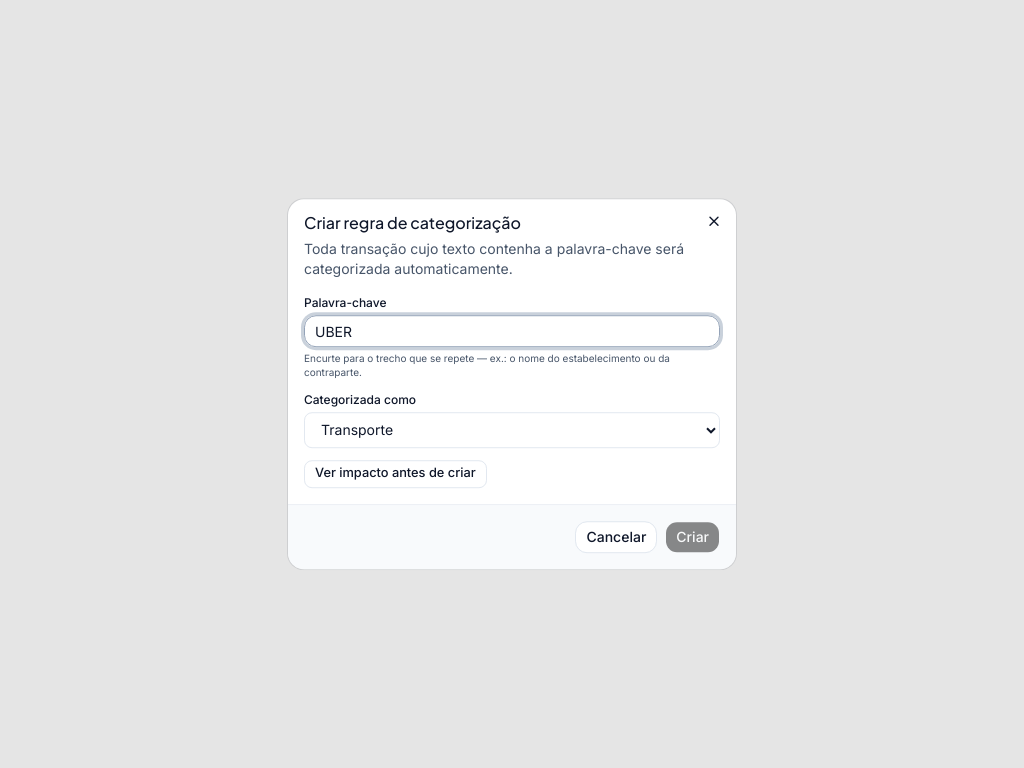
Scenario: CreateRuleDialog · preview + create flow (A12 P4) › mostra checkbox de confirmação quando requires_user_confirmation=true
Step 1. Click the button with test id "rule-preview-button" → (395, 474), box [304, 460, 487, 488]
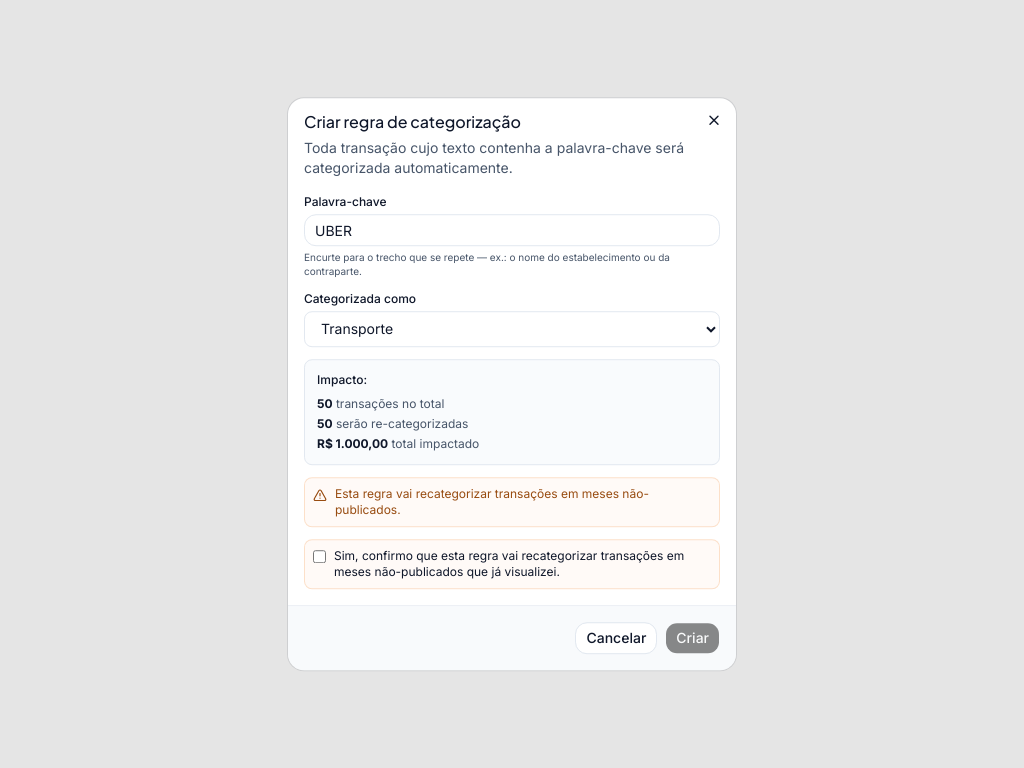
Check: the button with test id "rule-create-button" is disabled, box [665, 622, 720, 654]
Check: the checkbox with test id "rule-confirm-impact" is shown
Step 2. Click the checkbox with test id "rule-confirm-impact" → (320, 556), box [313, 550, 326, 563]
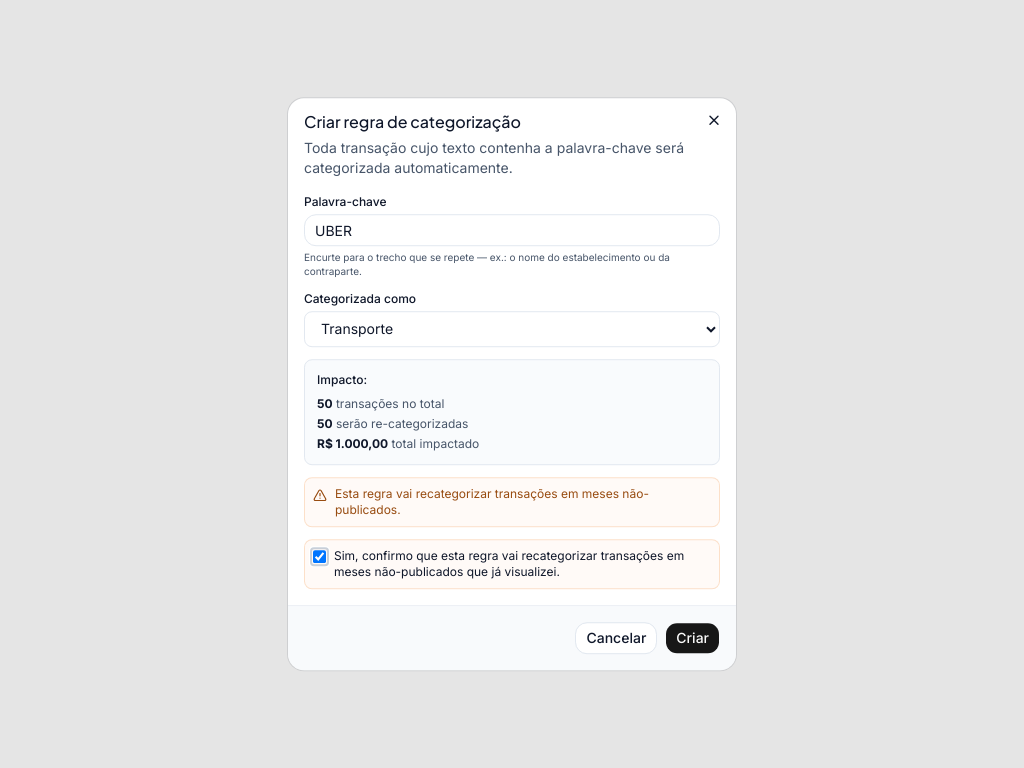
Check: the button with test id "rule-create-button" is enabled, box [665, 622, 720, 654]
